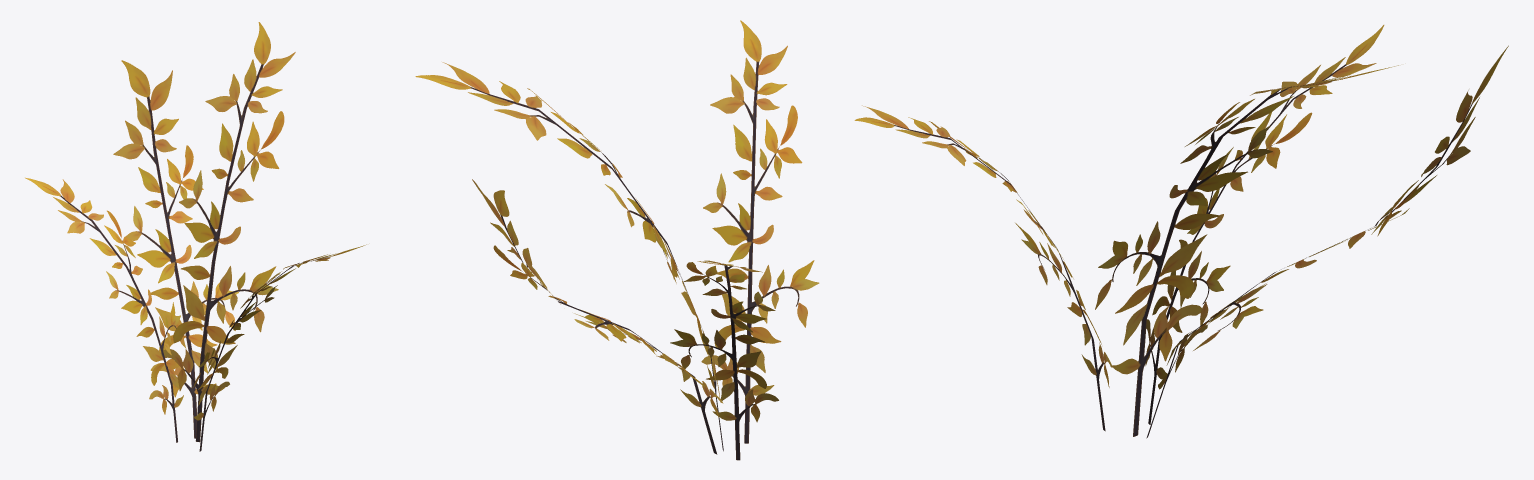
Rendered from bush4.fbx.
3 views of the same model, side by side, from view 1: azimuth 30°, elevation 25°; view 2: azimuth 150°, elevation 25°; view 3: azimuth 270°, elevation 25° (orthographic). The views are drawn at different scales.
Parts seen in each view (by area): view 1: bush4; view 2: bush4; view 3: bush4.
Part boxes in pixels (x1,y1,x2,y2): bush4: (25, 22, 366, 451); bush4: (415, 20, 819, 460); bush4: (854, 25, 1508, 438).
Bounding box in the file's own units: 237 × 274 × 341.
